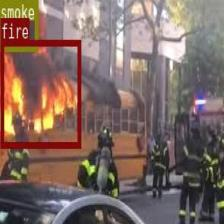fire: (0, 39, 80, 147)
smoke: (0, 0, 37, 49)
